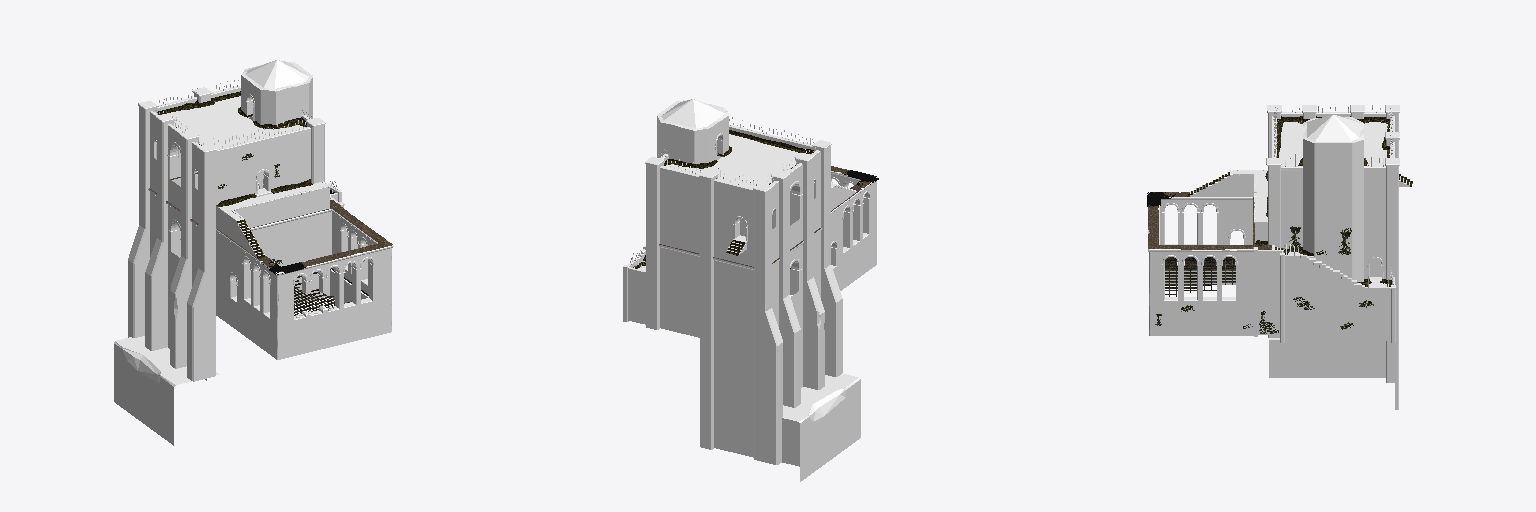
3 renders of one model, left to right at view 1: azimuth 30°, elevation 25°; view 2: azimuth 150°, elevation 25°; view 3: azimuth 270°, elevation 25°, orthographic.
Visible parts, largest first — view 1: mesh20, mesh8, mesh0, mesh11, mesh7, mesh10, mesh15, mesh9, mesh3, mesh12, mesh2; view 2: mesh20, mesh8, mesh0, mesh11, mesh10, mesh7, mesh3, mesh15, mesh12; view 3: mesh20, mesh8, mesh0, mesh11, mesh2, mesh3, mesh12, mesh9, mesh15, mesh7.
Part boxes in pixels (x1,y1,x2,y2): mesh20: (150, 61, 391, 380); mesh8: (128, 94, 343, 381); mesh0: (114, 189, 393, 445); mesh11: (168, 96, 326, 301); mesh7: (153, 94, 374, 285); mesh10: (114, 209, 392, 386); mesh15: (157, 91, 334, 258); mesh9: (149, 173, 392, 271); mesh3: (245, 60, 308, 88); mesh12: (138, 87, 344, 205); mesh2: (294, 268, 368, 315); mesh20: (628, 100, 876, 457); mesh8: (623, 146, 842, 464); mesh0: (659, 172, 877, 481); mesh11: (638, 134, 836, 270); mesh10: (782, 171, 876, 422); mesh7: (715, 133, 870, 290); mesh3: (661, 99, 724, 127); mesh15: (633, 130, 813, 268); mesh12: (623, 140, 831, 267); mesh20: (1149, 112, 1406, 375); mesh8: (1254, 113, 1398, 409); mesh0: (1148, 193, 1385, 377); mesh11: (1233, 122, 1390, 286); mesh2: (1165, 257, 1235, 296); mesh3: (1307, 115, 1359, 141); mesh12: (1253, 105, 1399, 288); mesh9: (1148, 192, 1271, 249); mesh15: (1187, 116, 1412, 286); mesh7: (1162, 203, 1383, 278).
Size of the model in its own units: 22.95 by 41.51 by 30.35.
21 materials, 7 textured.